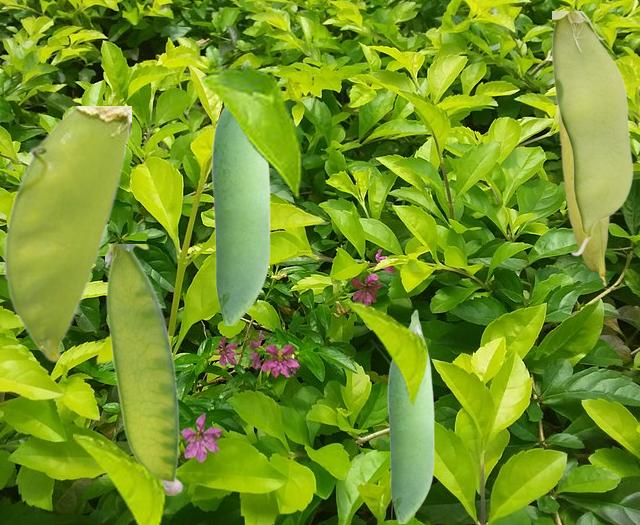pea: (3, 106, 130, 361), (552, 11, 632, 255), (105, 244, 182, 494), (211, 59, 269, 324), (387, 309, 433, 522), (558, 114, 609, 285)
